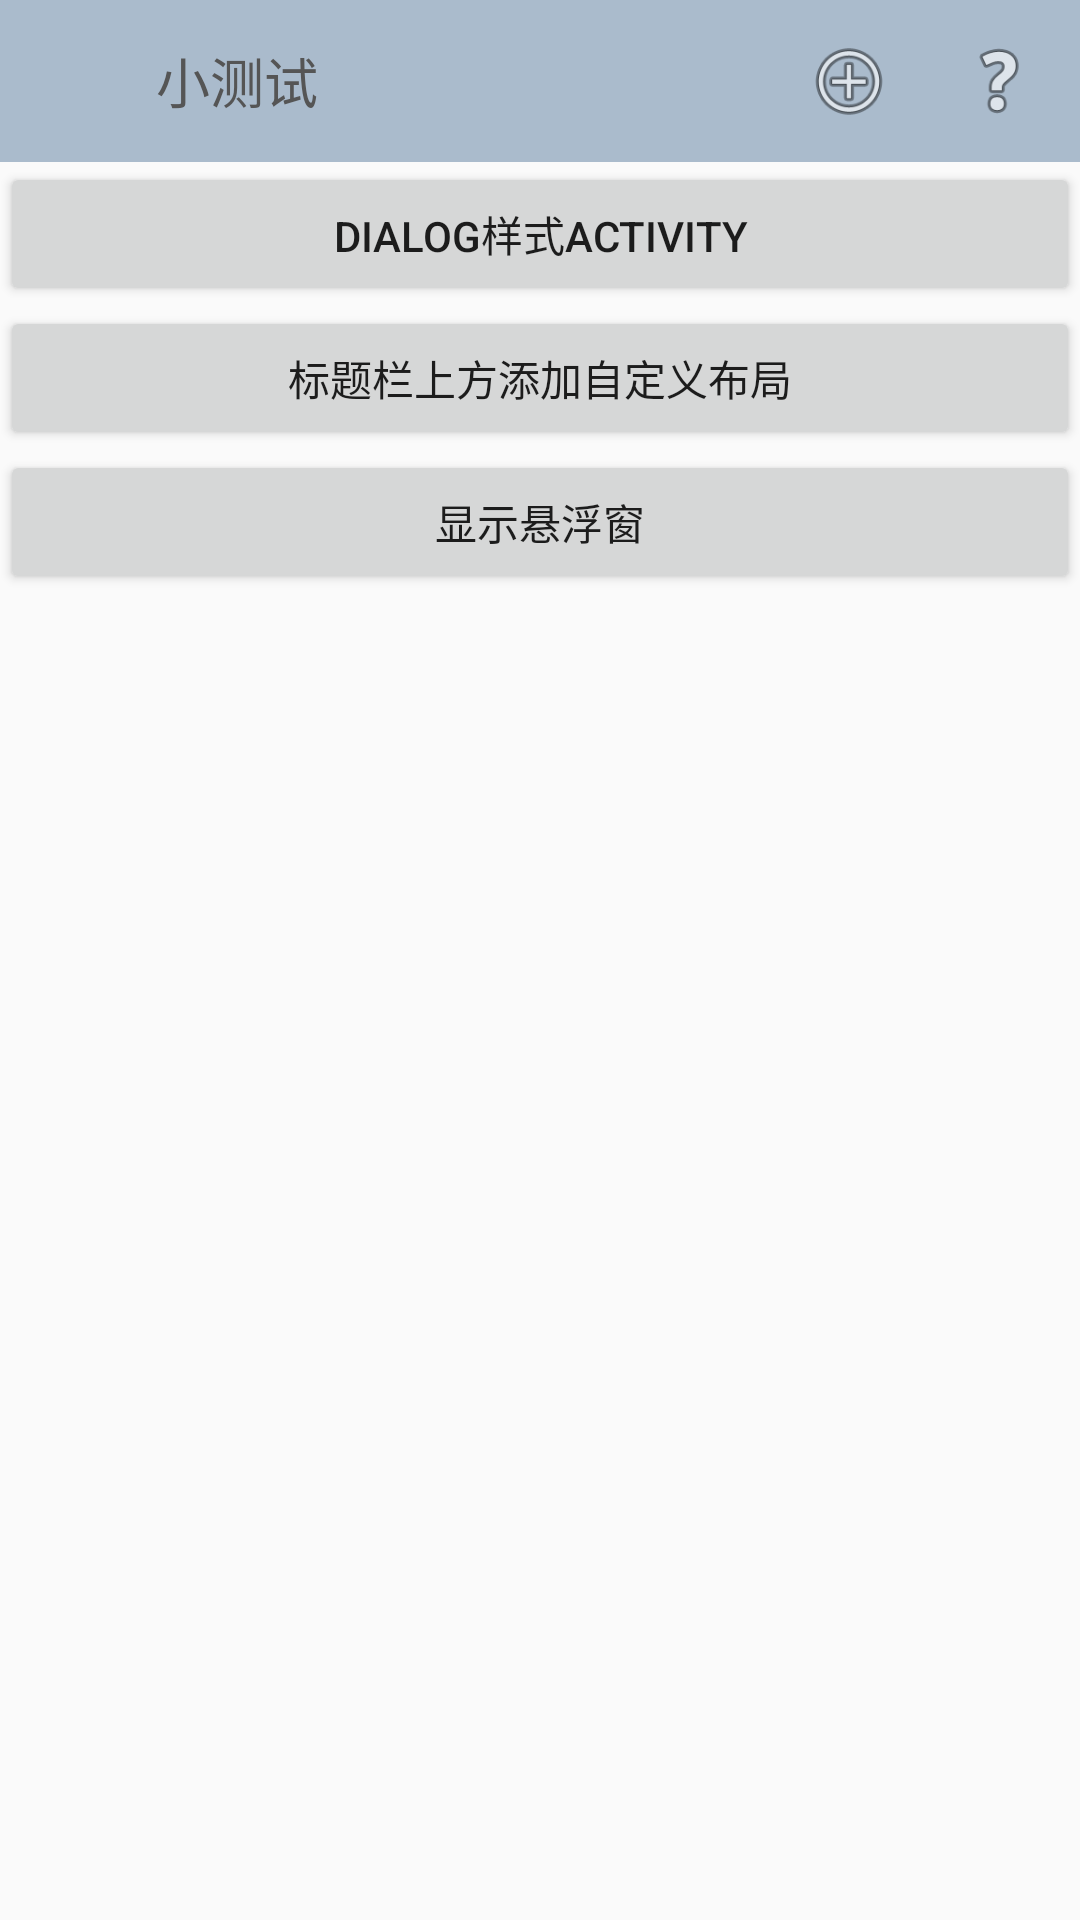

Icons on this 1080*1920 Android screen, each with the point to tap as point (x, y):
add: point (849, 81)
help: point (999, 81)
